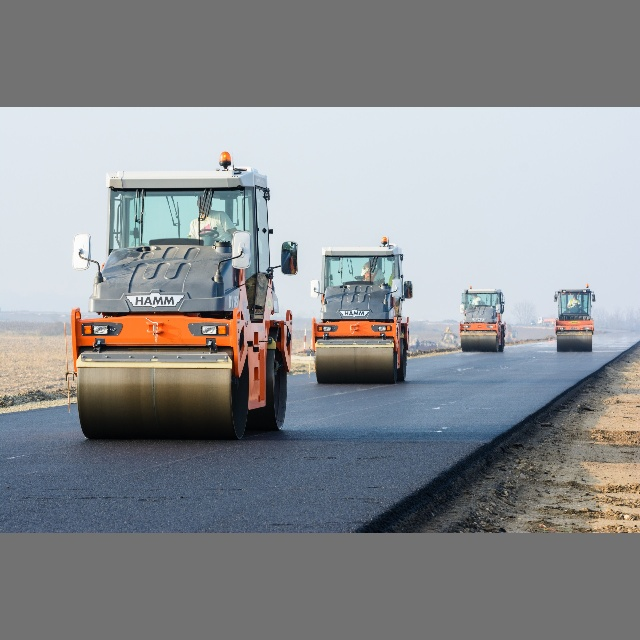Рабочая техника: (77, 168, 287, 441), (315, 250, 407, 382), (460, 291, 506, 351), (554, 290, 592, 351)
